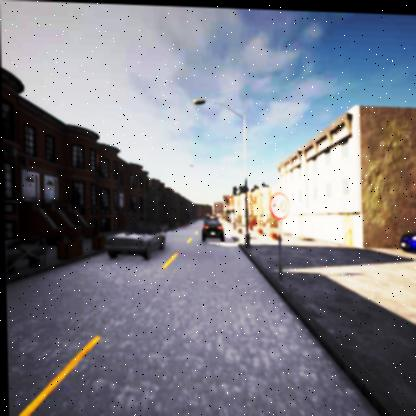vehicle: (103, 220, 167, 259), (200, 216, 221, 241), (400, 229, 416, 251)
